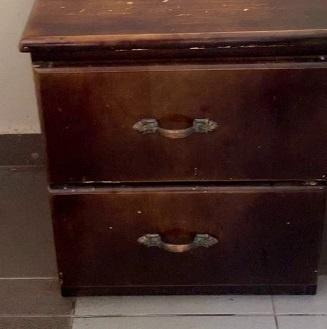cabinet_door: (40, 64, 327, 184), (54, 188, 326, 291)
handle: (135, 112, 221, 145), (135, 230, 221, 260)
